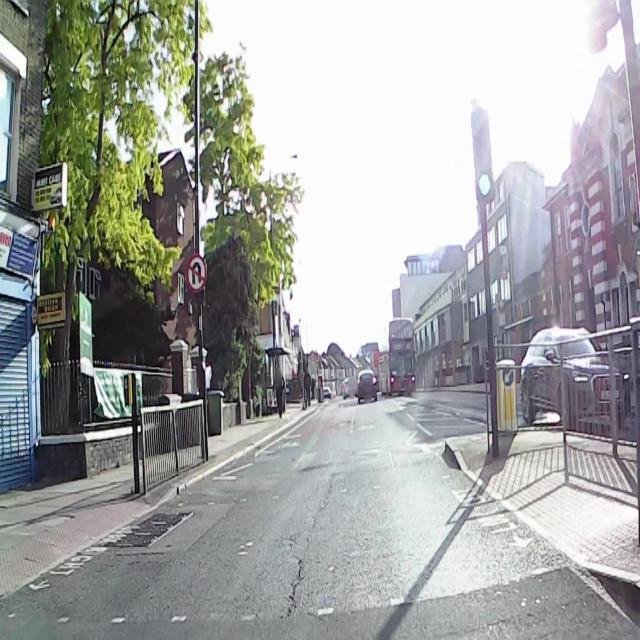car: (520, 326, 622, 432), (357, 370, 378, 403), (342, 377, 358, 400), (322, 387, 332, 401)
